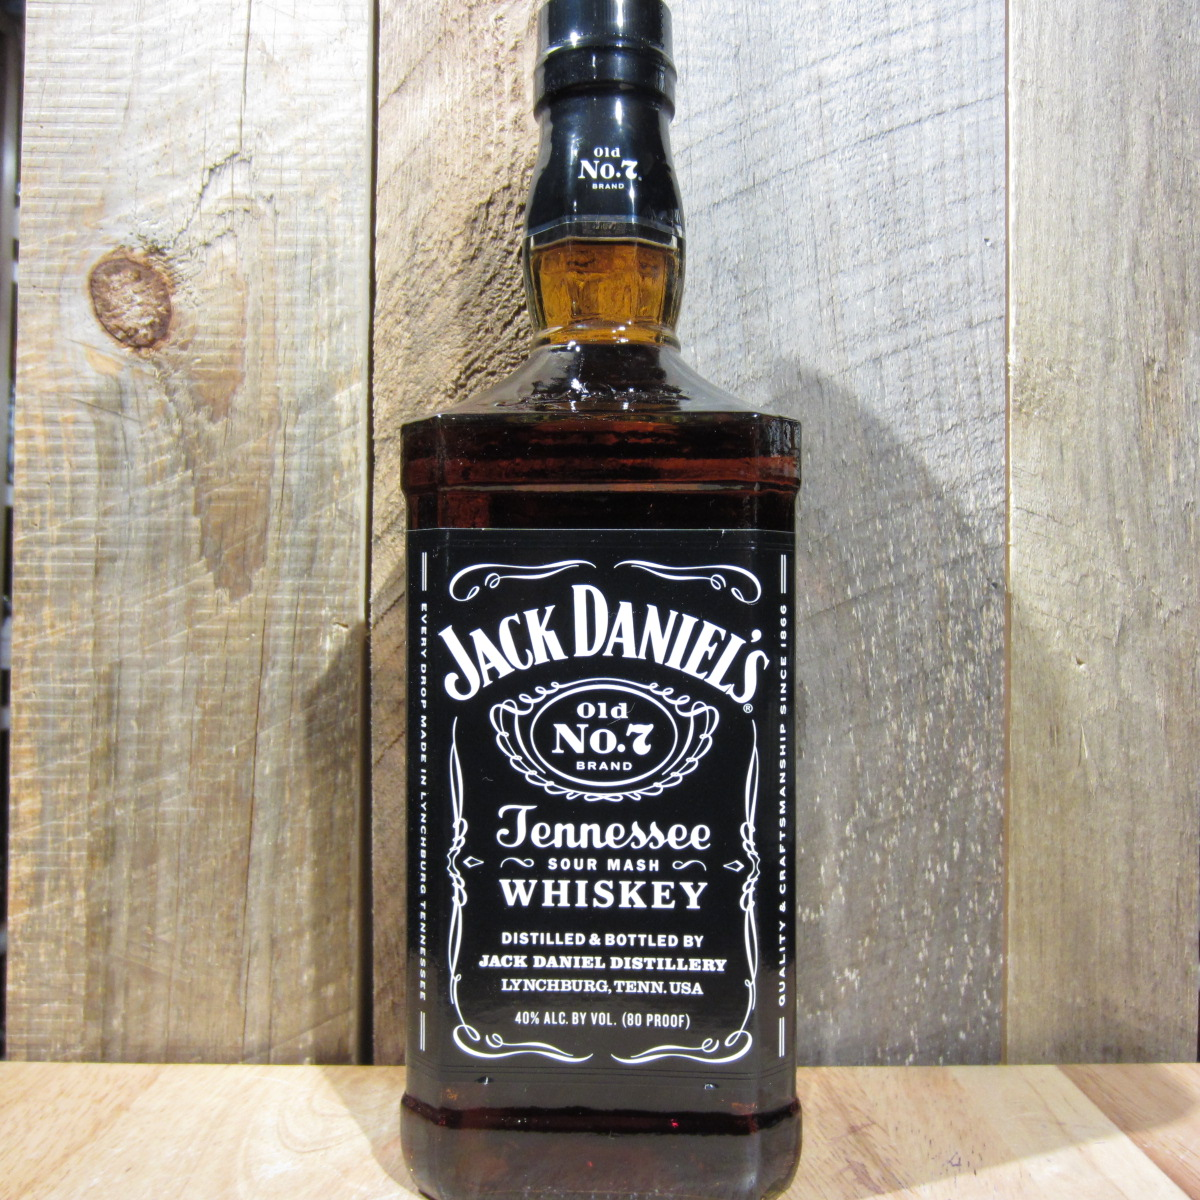Jack Daniel: (330, 1, 851, 1200)
